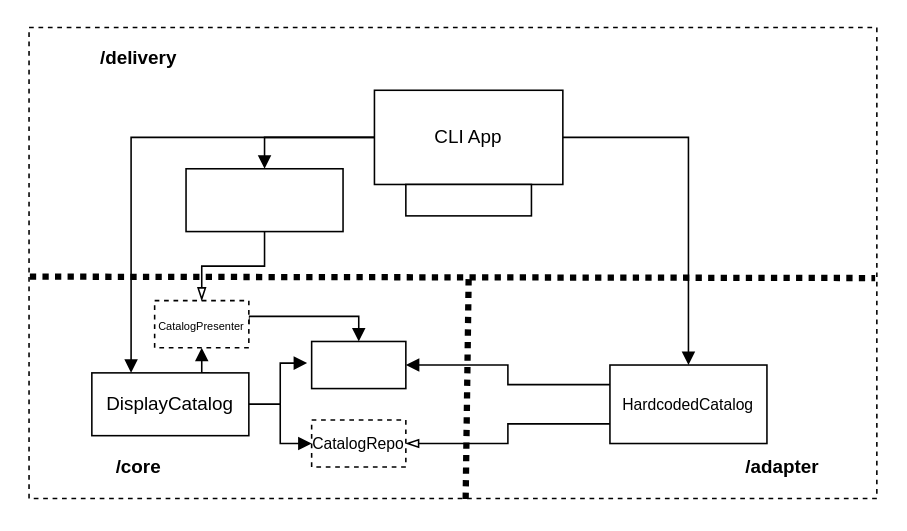
Some shapes in this 907 by 531 pixel diagram are drawn without their labels. The shapes that lost their labels are listed below. From the top down, each one's centre as x and y in pixels, then its label:
point (263, 199): TextPresenter
point (467, 199): main()
point (358, 364): CatalogItem
